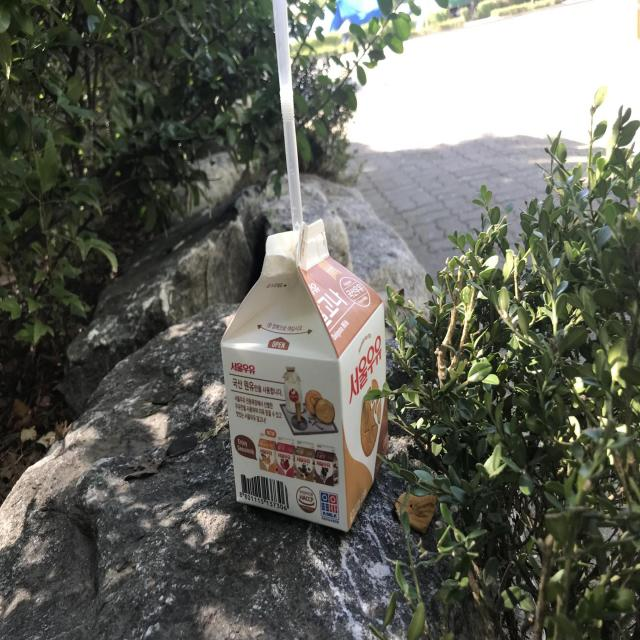paperpack: (221, 220, 388, 531)
